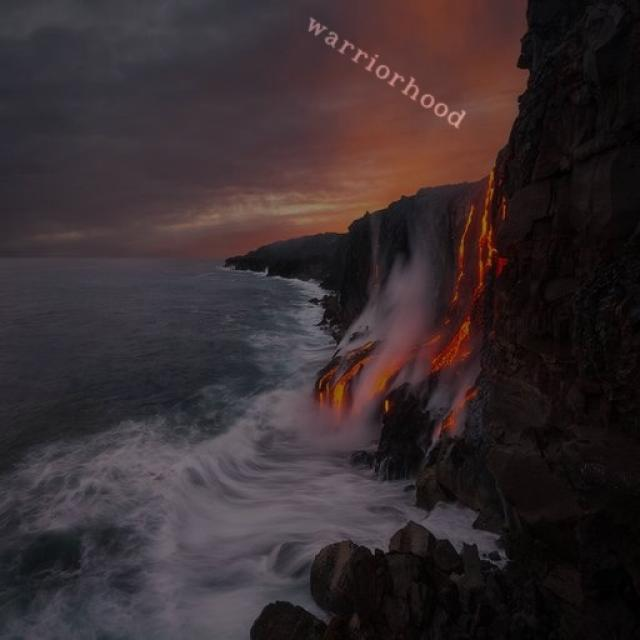watermark: (296, 8, 477, 133)
